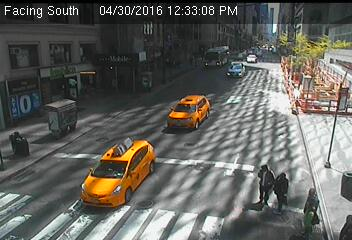neg: (7, 123, 36, 161), (221, 101, 243, 131), (121, 75, 142, 104), (104, 157, 125, 186), (173, 97, 193, 124), (45, 103, 64, 129), (280, 58, 297, 81), (159, 147, 176, 170), (256, 36, 273, 59), (322, 142, 337, 164), (223, 56, 238, 76), (203, 49, 216, 68)
pos: (246, 164, 277, 204), (269, 171, 298, 210), (299, 187, 326, 224), (300, 205, 325, 238)
